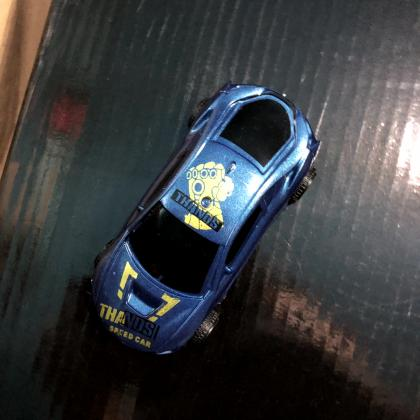Car: (91, 82, 320, 358)
